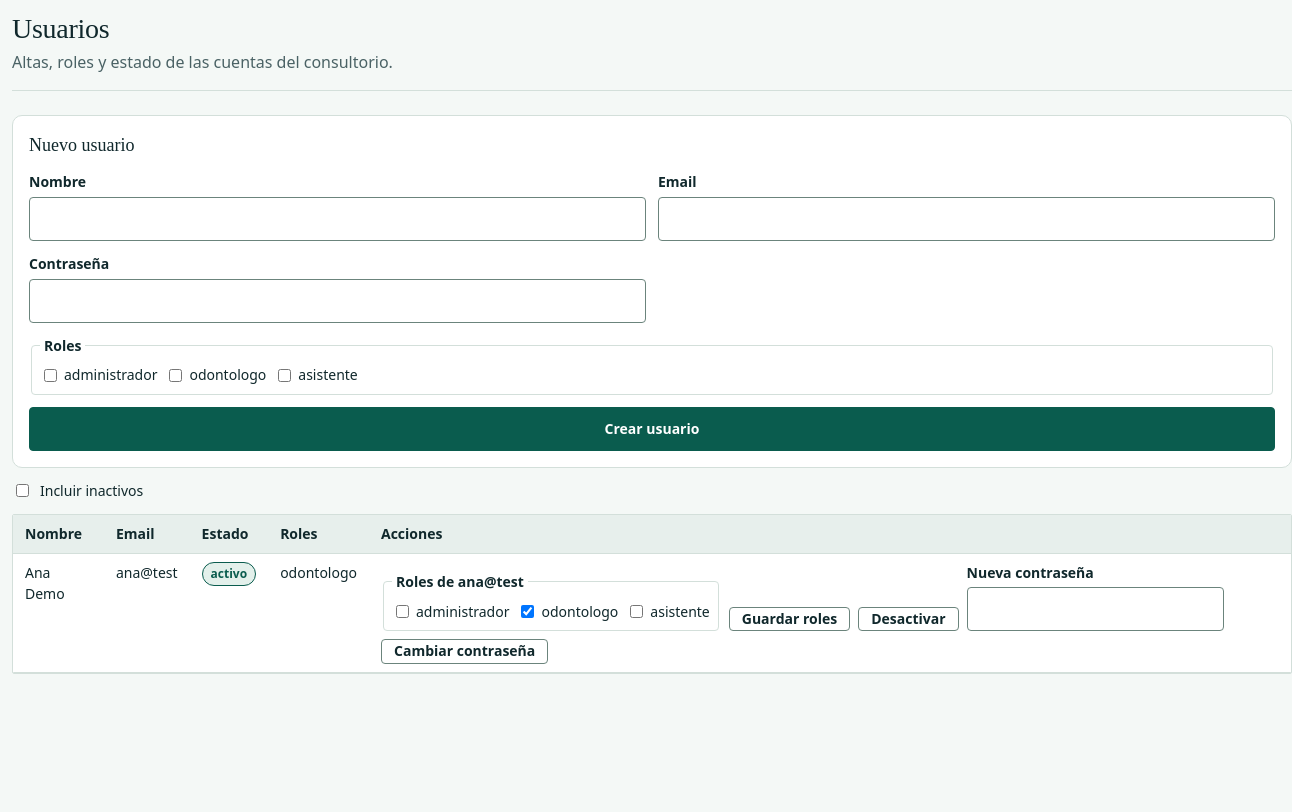
it: UsuariosPage › no valida localmente: envía el alta vacía y muestra el 422 de la API
The image size is (1292, 812).
Expected: the text "Ana Demo" is shown, [13,553,104,672]
Click the button "Crear usuario" at {"x": 652, "y": 429}, box [29,407,1275,451]
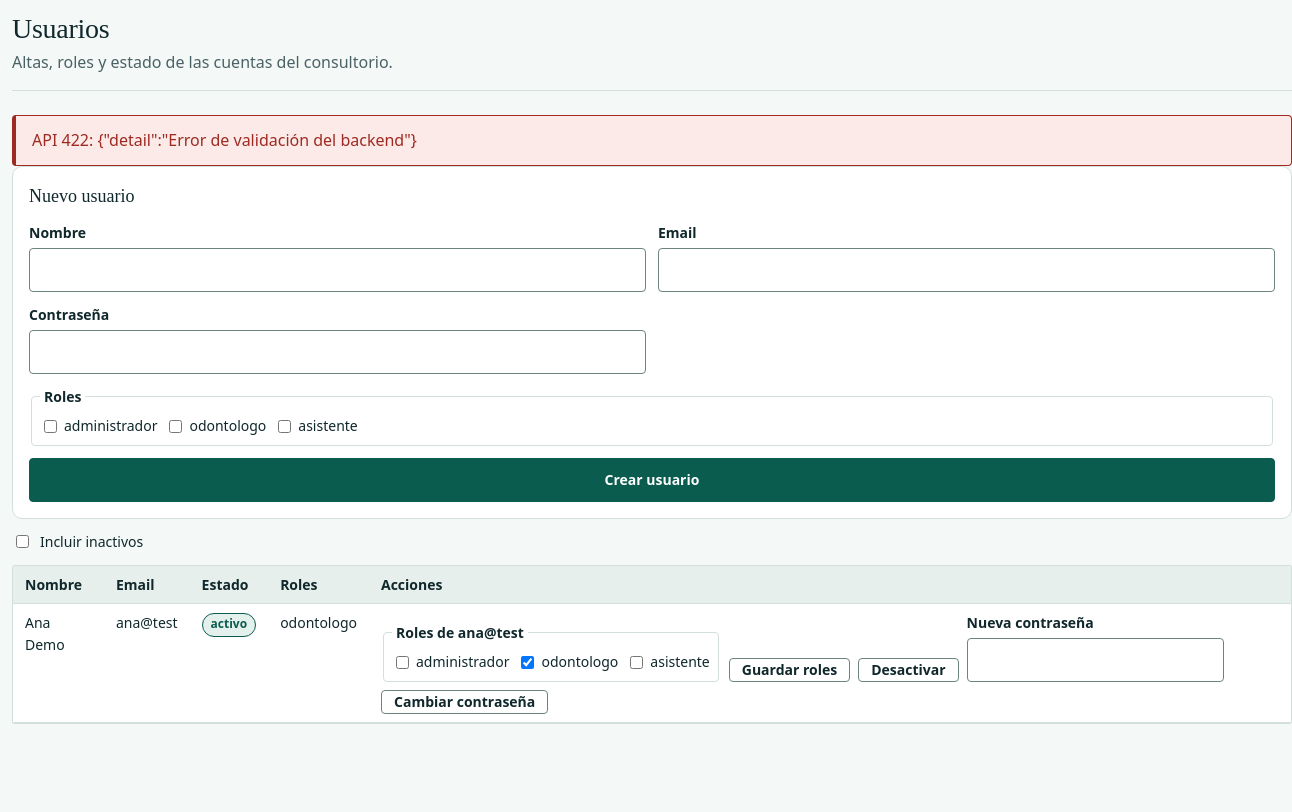
Expected: the message shows "422", [32,129,417,151]
Expected: the message shows "Error de validación del backend", [32,129,417,151]
